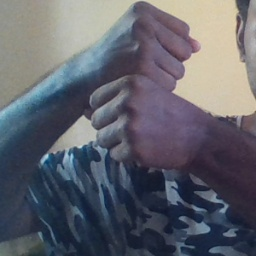G: (85, 1, 205, 184)
